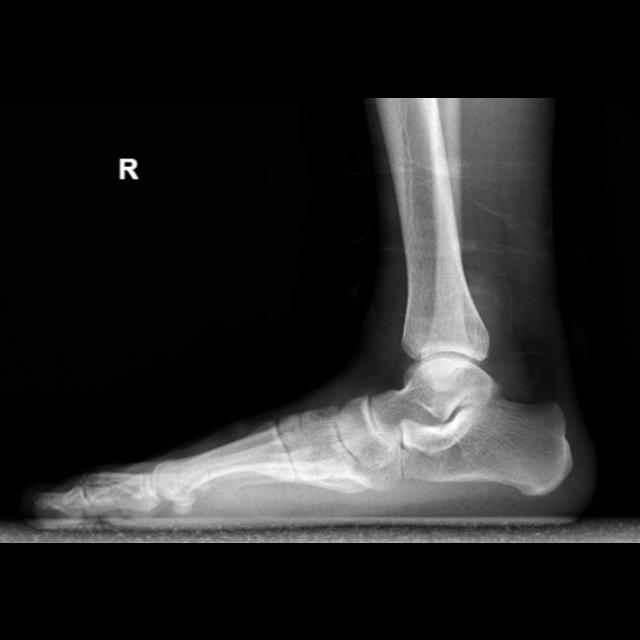a: (404, 398, 574, 496)
b: (335, 395, 398, 469)
c: (153, 422, 299, 500)
